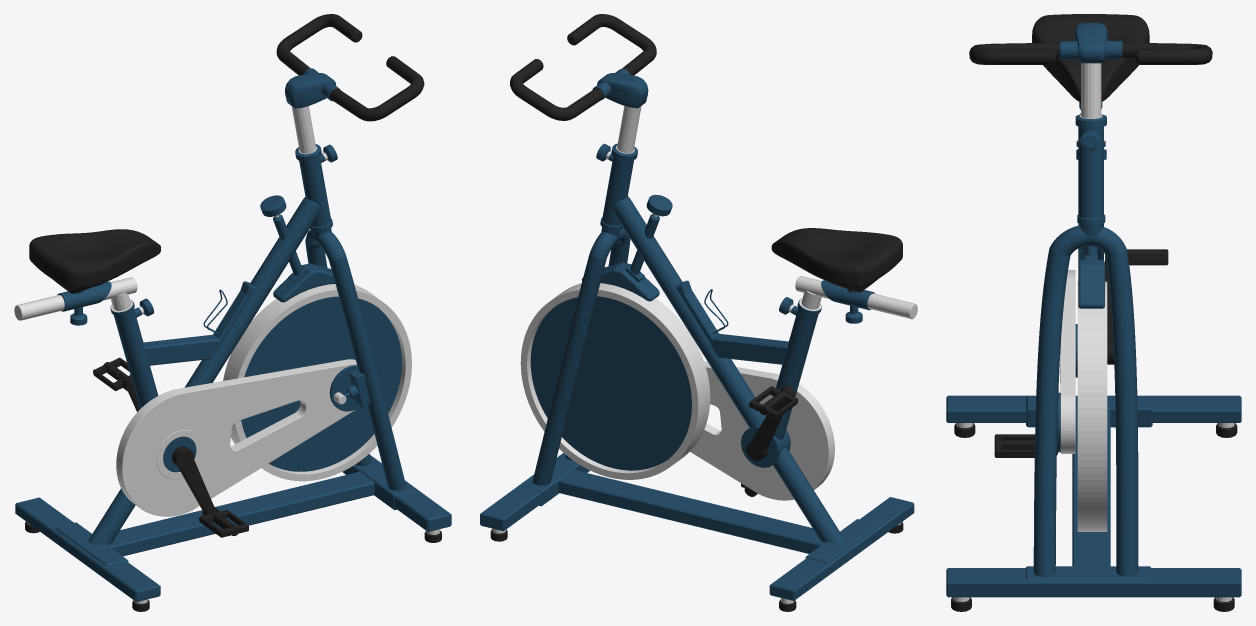
The model's file is gym cycle.FBX.
3 renders of one model, left to right at view 1: azimuth 30°, elevation 25°; view 2: azimuth 150°, elevation 25°; view 3: azimuth 270°, elevation 25°, orthographic. The views are drawn at different scales.
Parts seen in each view (by area): view 1: Box05; view 2: Box05; view 3: Box05.
Boxes of the visible parts, bbox=[...] form: Box05: bbox=[14, 14, 451, 611]; Box05: bbox=[480, 14, 917, 611]; Box05: bbox=[946, 14, 1241, 611].
Size of the model in its own units: 924 by 1039 by 500.
